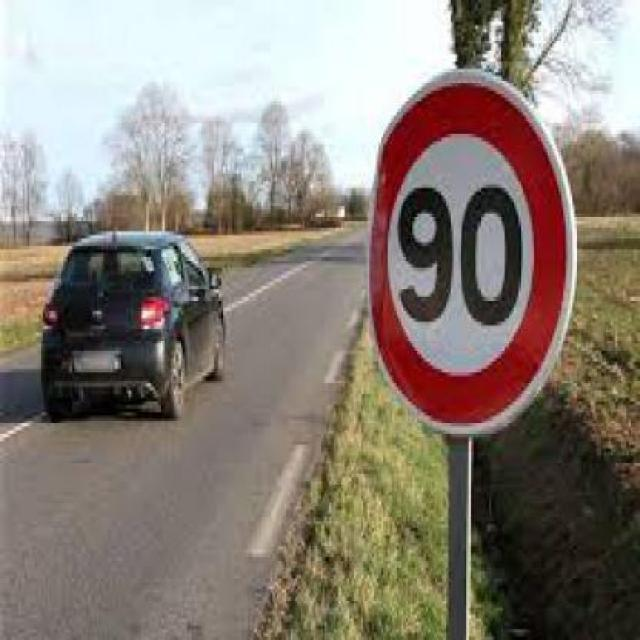speed limit 90: (368, 68, 578, 434)
